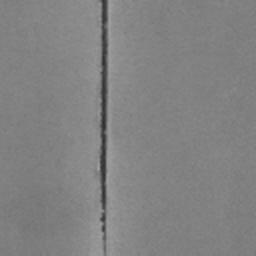Slag inclusion: (99, 0, 110, 256)
